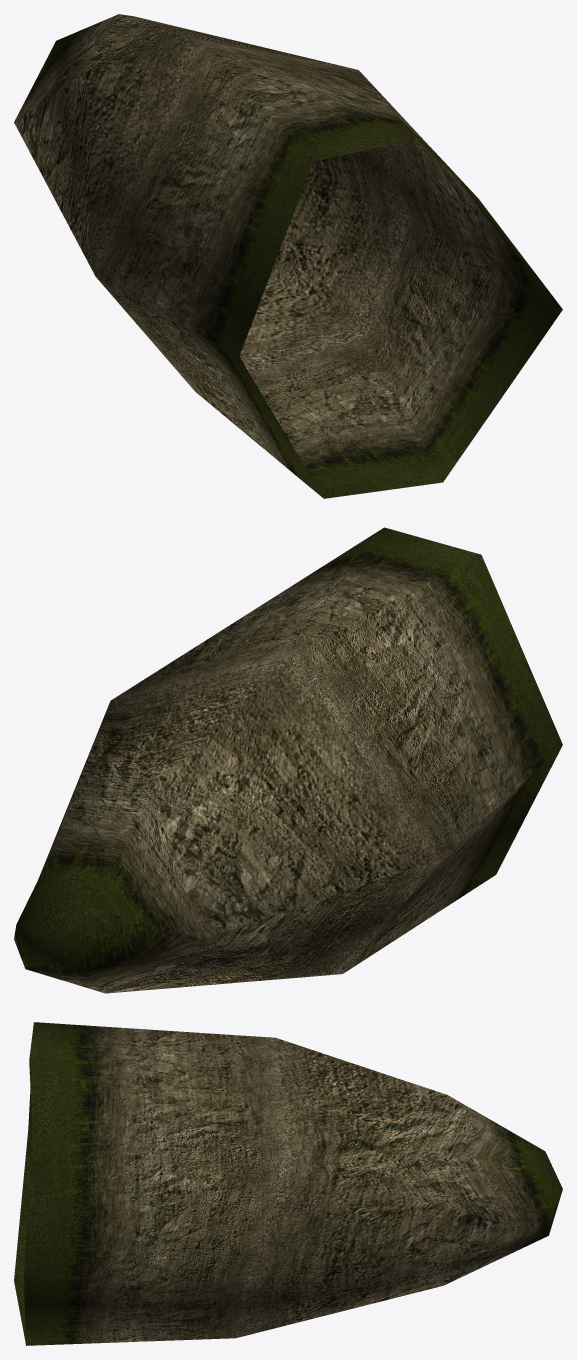
The model's file is MEP_Edge_Rock_03.fbx.
3 views of the same model, one above another, from view 1: azimuth 30°, elevation 25°; view 2: azimuth 150°, elevation 25°; view 3: azimuth 270°, elevation 25° (orthographic). The views are drawn at different scales.
Parts seen in each view (by area): view 1: MEP_Edge_Rock_03; view 2: MEP_Edge_Rock_03; view 3: MEP_Edge_Rock_03.
Boxes of the visible parts, bbox=[...] form: MEP_Edge_Rock_03: bbox=[14, 14, 562, 498]; MEP_Edge_Rock_03: bbox=[14, 527, 562, 993]; MEP_Edge_Rock_03: bbox=[14, 1022, 562, 1345].
Size of the model in its own units: 15.12 by 15.12 by 27.27.
